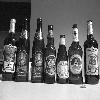beer: (4, 16, 18, 81)
